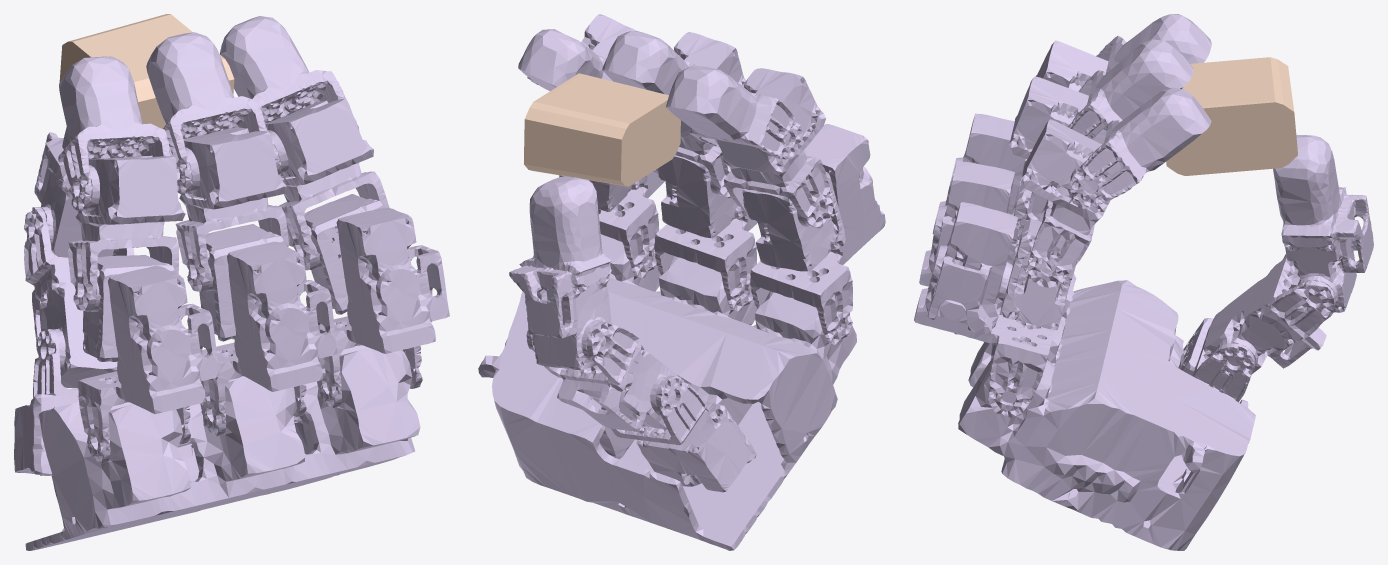
3 views of the same model, side by side, from view 1: azimuth 30°, elevation 25°; view 2: azimuth 150°, elevation 25°; view 3: azimuth 270°, elevation 25° (orthographic). The views are drawn at different scales.
Visible parts, largest first — view 1: LEAP_hand, world; view 2: LEAP_hand, world; view 3: LEAP_hand, world.
Boxes of the visible parts, x1,y1,x2,y2 form: LEAP_hand: [14, 16, 449, 550]; world: [59, 14, 234, 128]; LEAP_hand: [478, 14, 885, 550]; world: [524, 73, 680, 186]; LEAP_hand: [914, 14, 1373, 550]; world: [1166, 57, 1297, 175].
Bounding box in the file's own units: 0.1274 × 0.1979 × 0.1761.
